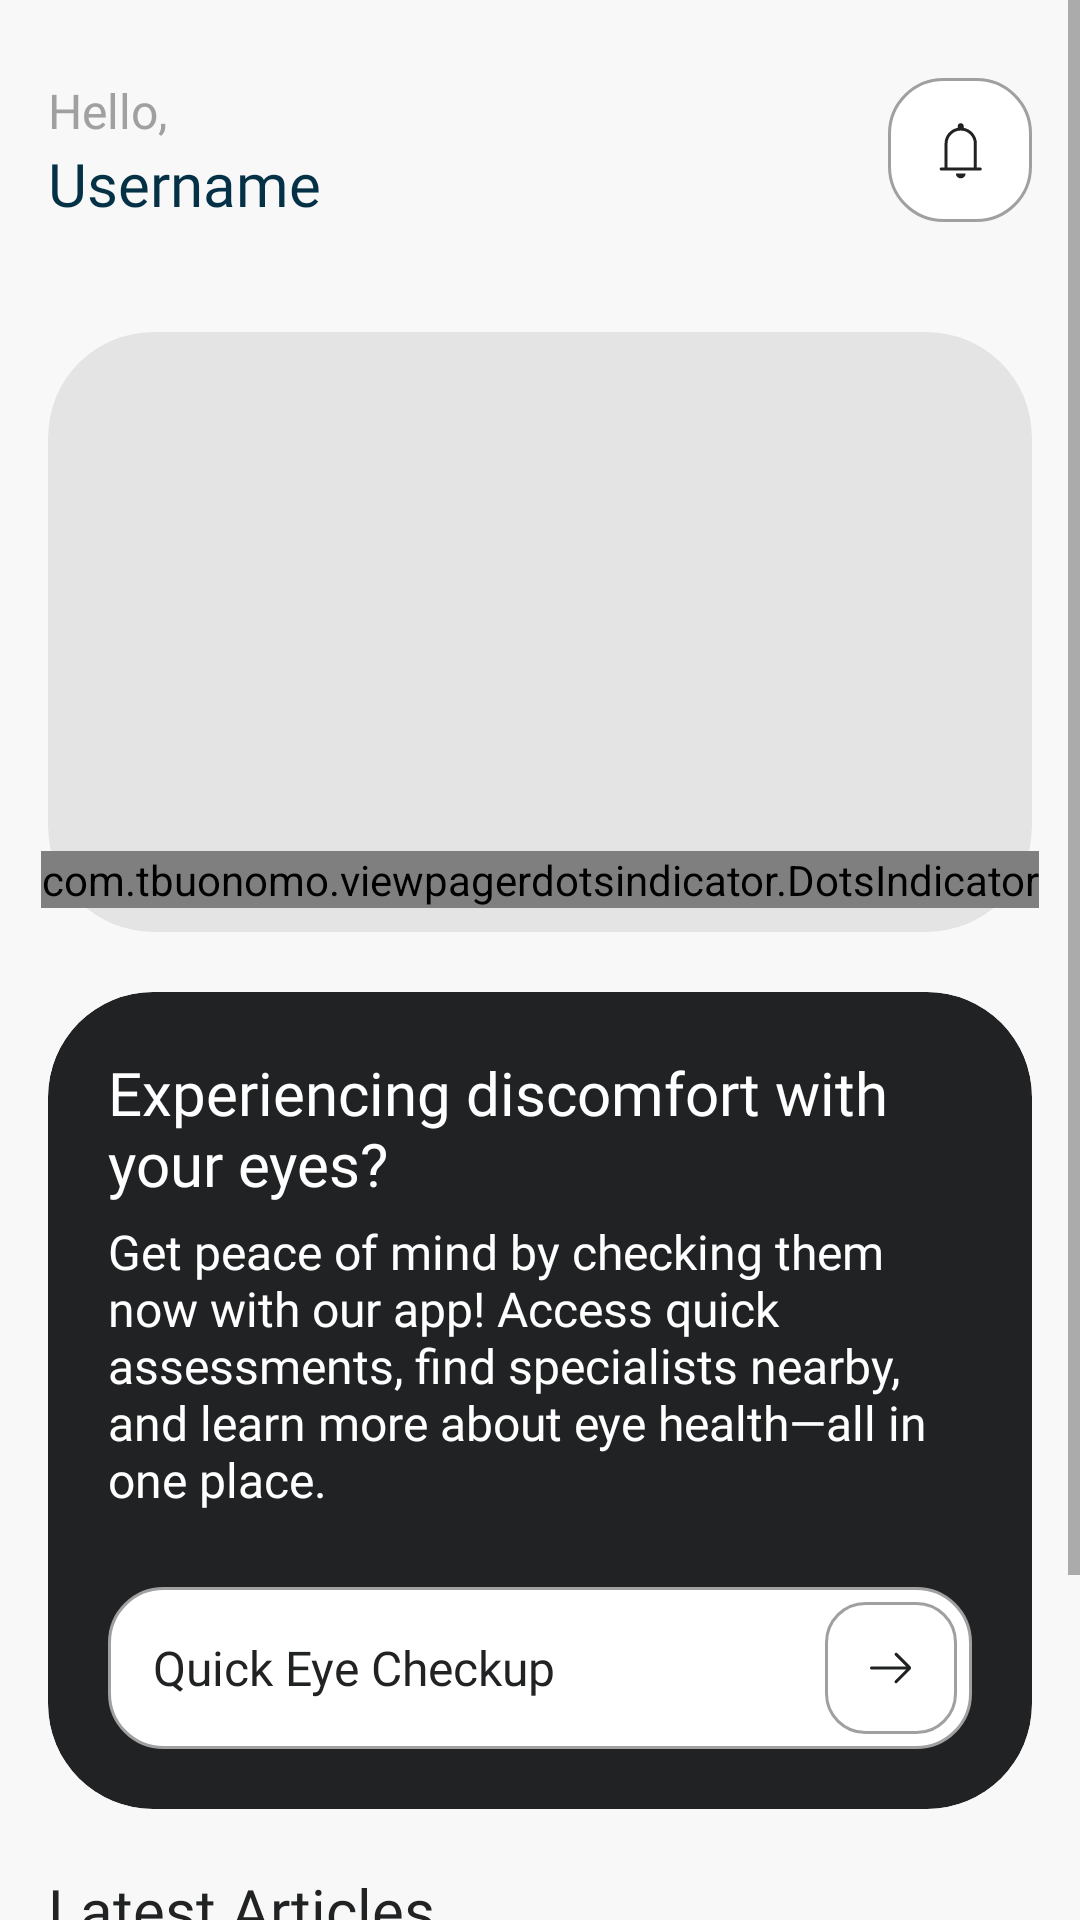

Where to tap for icons on this 1080 x 1920 app screen, as (x,y):
Forward arrow: (891,1668)
Notification Button: (960,150)
